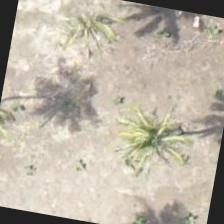Kelapa_Sawit: (97, 82, 201, 186), (34, 0, 137, 79)
